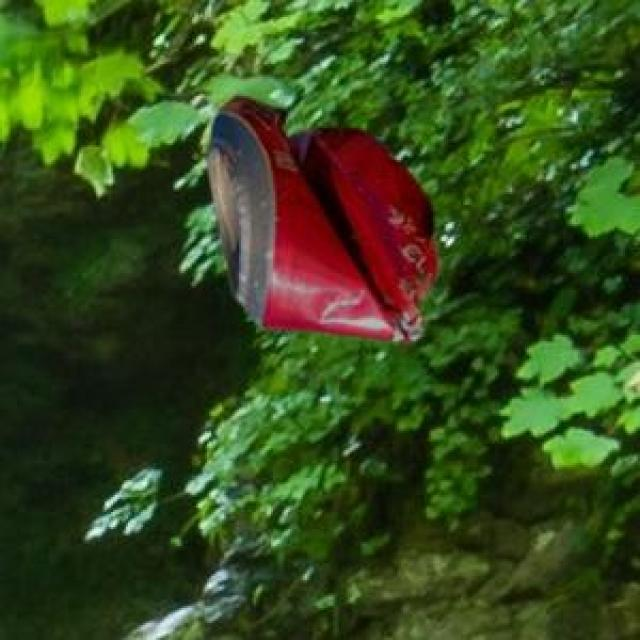Can: (204, 93, 436, 340)
